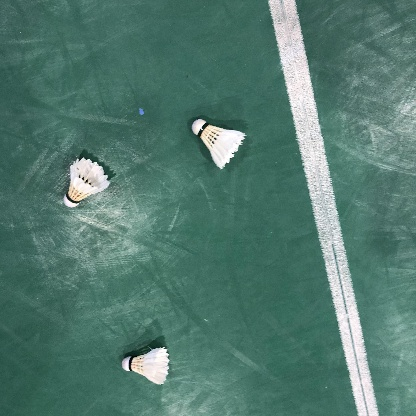ball_single: (191, 119, 246, 169), (64, 158, 110, 207), (122, 347, 170, 385)
